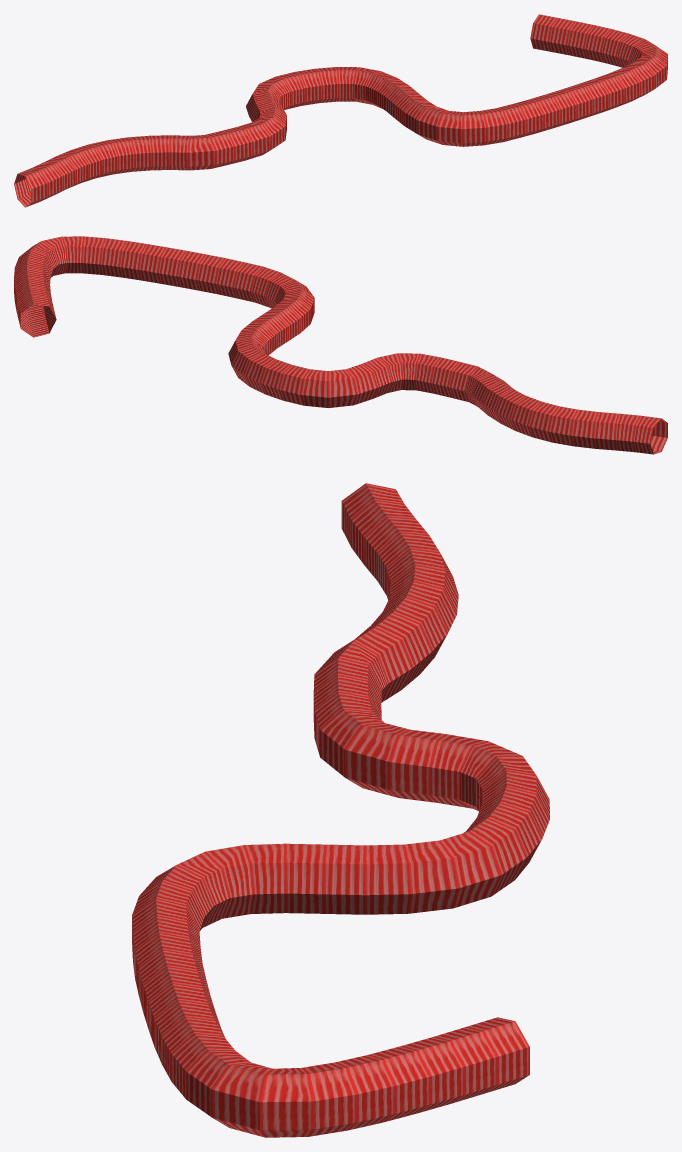
Rendered from vena000.dae.
3 views of the same model, one above another, from view 1: azimuth 30°, elevation 25°; view 2: azimuth 150°, elevation 25°; view 3: azimuth 270°, elevation 25° (orthographic). The views are drawn at different scales.
Visible parts, largest first — view 1: vena-col; view 2: vena-col; view 3: vena-col.
Boxes of the visible parts, left/top/right/bottom form: vena-col: left=14, top=14, right=667, bottom=207; vena-col: left=14, top=236, right=667, bottom=454; vena-col: left=132, top=483, right=549, bottom=1137.
Bounding box in the file's own units: 103 × 30.29 × 5.03.
Materials: 1 (1 with a texture image).
